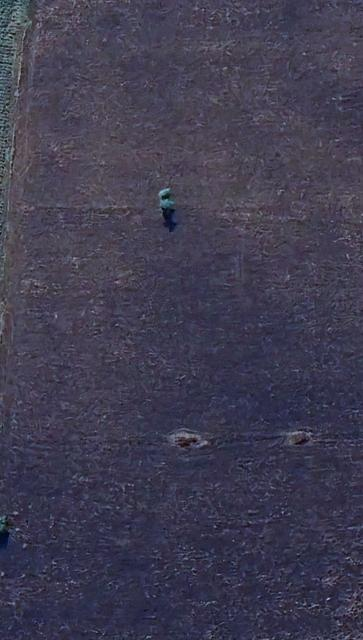Farms: (4, 0, 362, 640)
